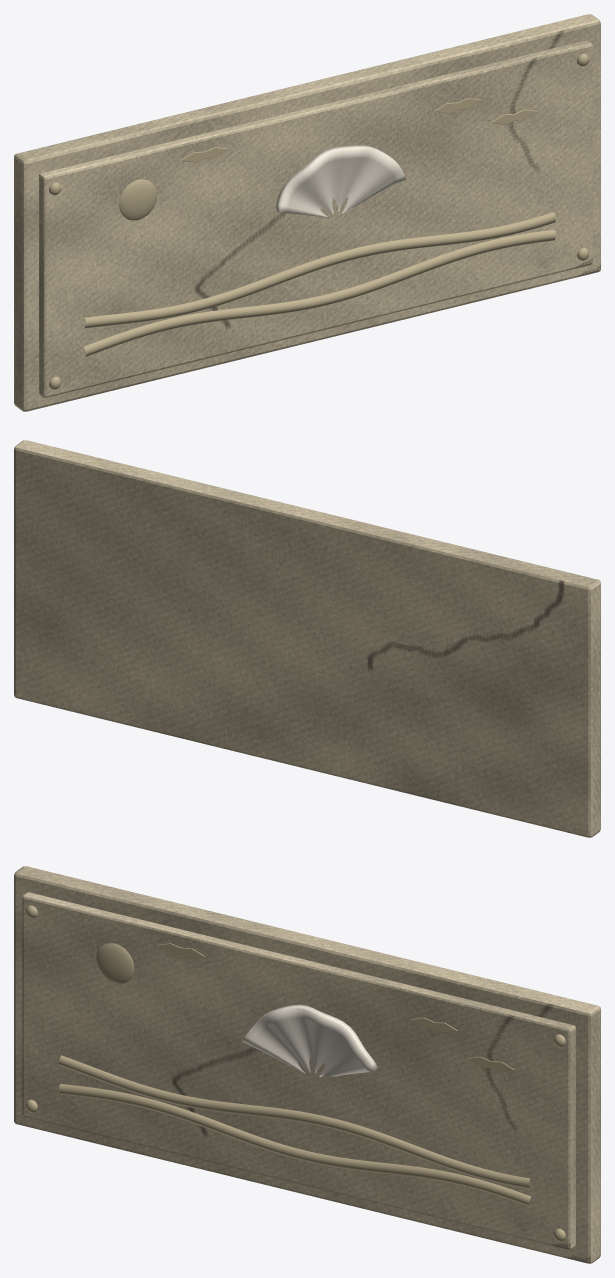
File: wall_mural_shell.glb
3 renders of one model, top to bottom at view 1: azimuth 30°, elevation 25°; view 2: azimuth 150°, elevation 25°; view 3: azimuth 330°, elevation 25°, orthographic.
Parts seen in each view (by area): view 1: wall_mural_shell; view 2: wall_mural_shell; view 3: wall_mural_shell.
Boxes of the visible parts, x1,y1,x2,y2 form: wall_mural_shell: (14, 14, 600, 411); wall_mural_shell: (14, 440, 600, 837); wall_mural_shell: (14, 866, 600, 1263).
Bounding box in the file's own units: 4.8 × 2 × 0.35.
Materials: 3 (1 with a texture image).
